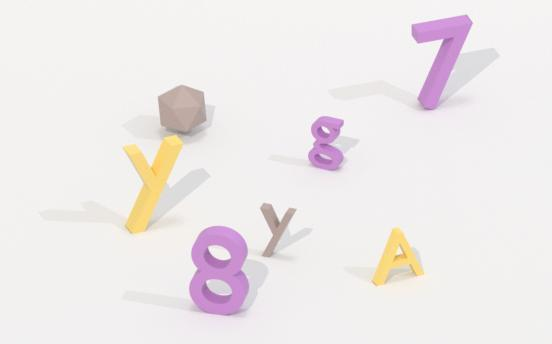chu_khoi: (123, 135, 182, 232), (372, 228, 423, 285), (308, 116, 343, 169), (260, 203, 295, 256)
da_giac: (158, 85, 206, 132)
so_khoi: (412, 15, 471, 108), (189, 226, 249, 314)
